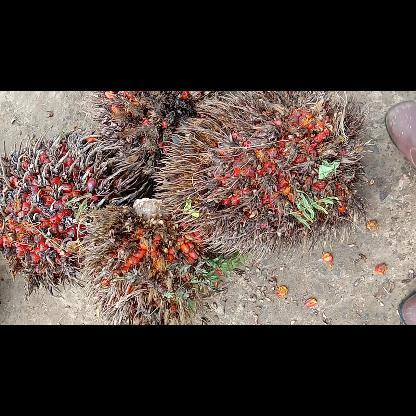Terlalu masak: (152, 90, 374, 262), (0, 120, 149, 303), (72, 194, 226, 324), (90, 90, 226, 172)
